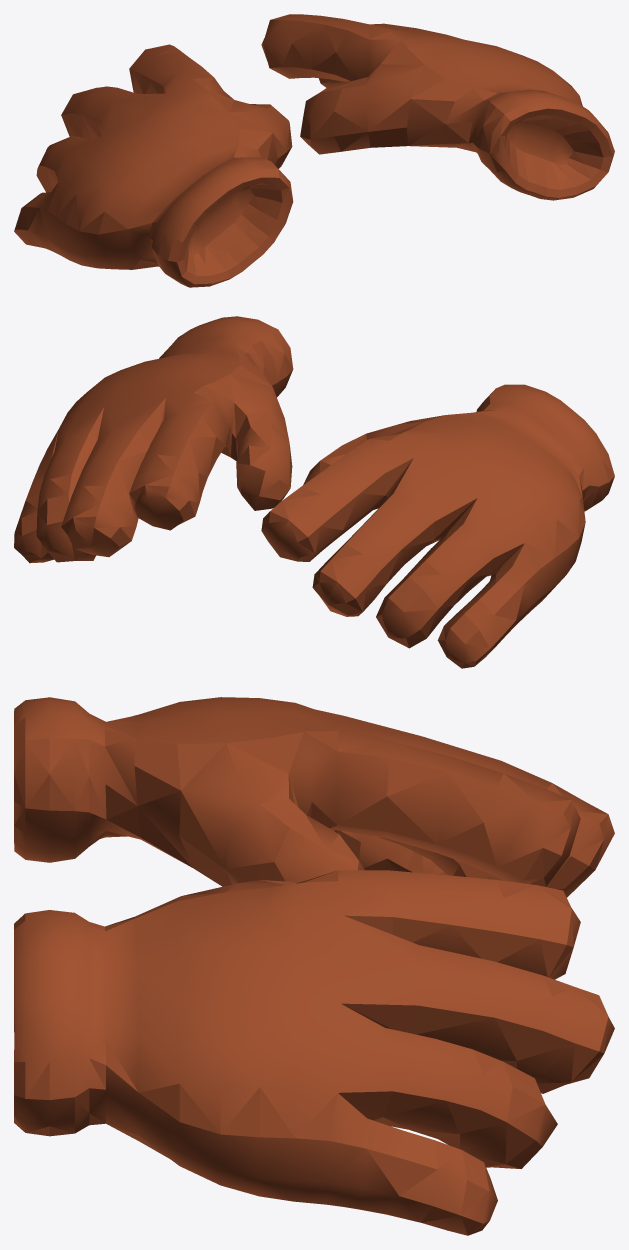
File: gloves.fbx
3 renders of one model, top to bottom at view 1: azimuth 30°, elevation 25°; view 2: azimuth 150°, elevation 25°; view 3: azimuth 270°, elevation 25°, orthographic. The views are drawn at different scales.
Parts seen in each view (by area): view 1: Box04, Box05; view 2: Box04, Box05; view 3: Box05, Box04.
Part boxes in pixels (box(x1,y1,x2,y2)): Box04: box(14, 44, 293, 287); Box05: box(261, 14, 614, 200); Box04: box(261, 384, 614, 668); Box05: box(14, 316, 293, 563); Box05: box(14, 870, 614, 1235); Box04: box(14, 697, 614, 897).
Size of the model in its own units: 325 by 104 by 215.
